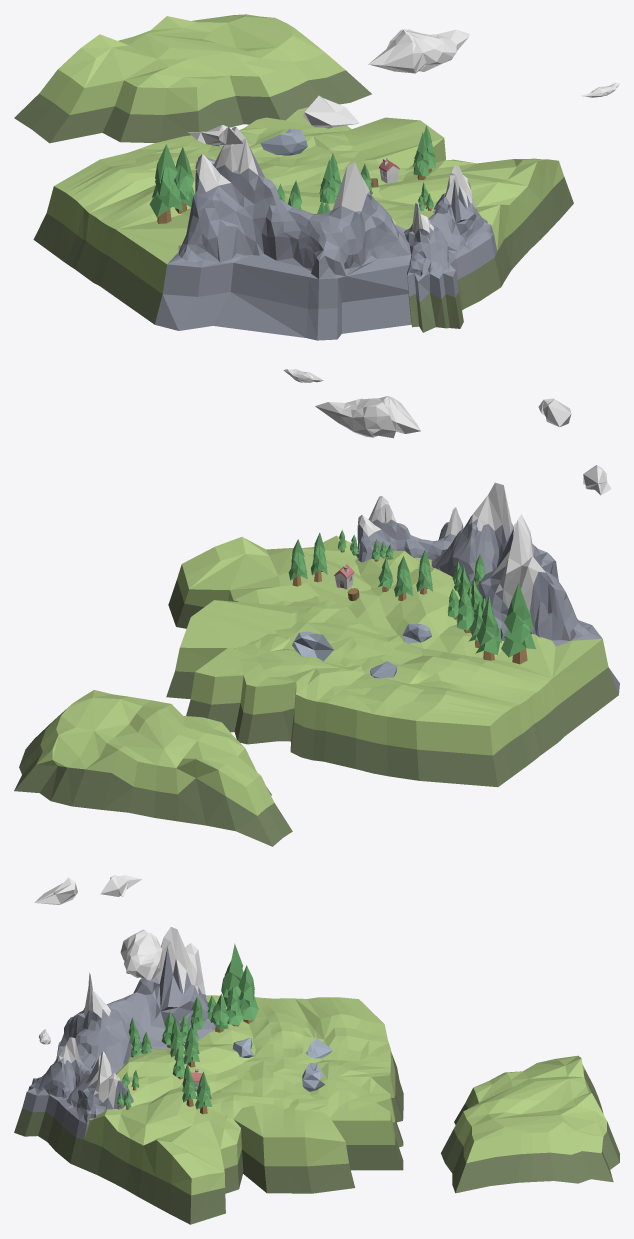
Rendered from serious island.fbx.
3 views of the same model, one above another, from view 1: azimuth 30°, elevation 25°; view 2: azimuth 150°, elevation 25°; view 3: azimuth 270°, elevation 25° (orthographic). The views are drawn at different scales.
Parts seen in each view (by area): view 1: environmentFog4; view 2: environmentFog4; view 3: environmentFog4.
Part boxes in pixels (x1,y1,x2,y2): environmentFog4: [14, 14, 619, 340]; environmentFog4: [14, 369, 619, 846]; environmentFog4: [14, 875, 619, 1224].
Bounding box in the file's own units: 50.97 × 27.33 × 69.44.
